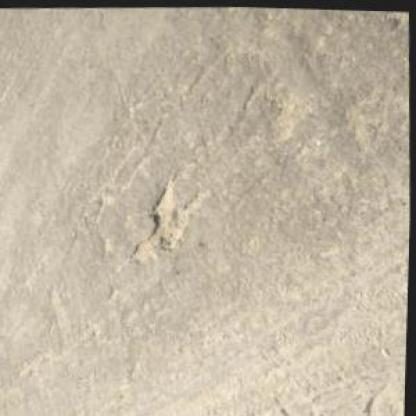pothole: (148, 173, 193, 252), (132, 237, 154, 265)
